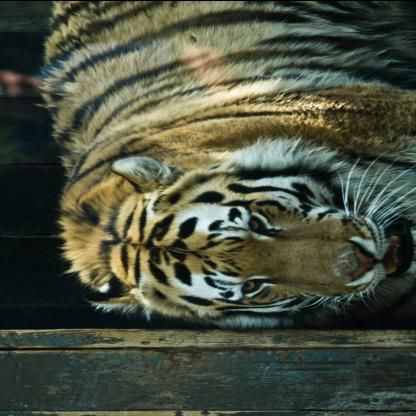tiger: (108, 147, 414, 337)
